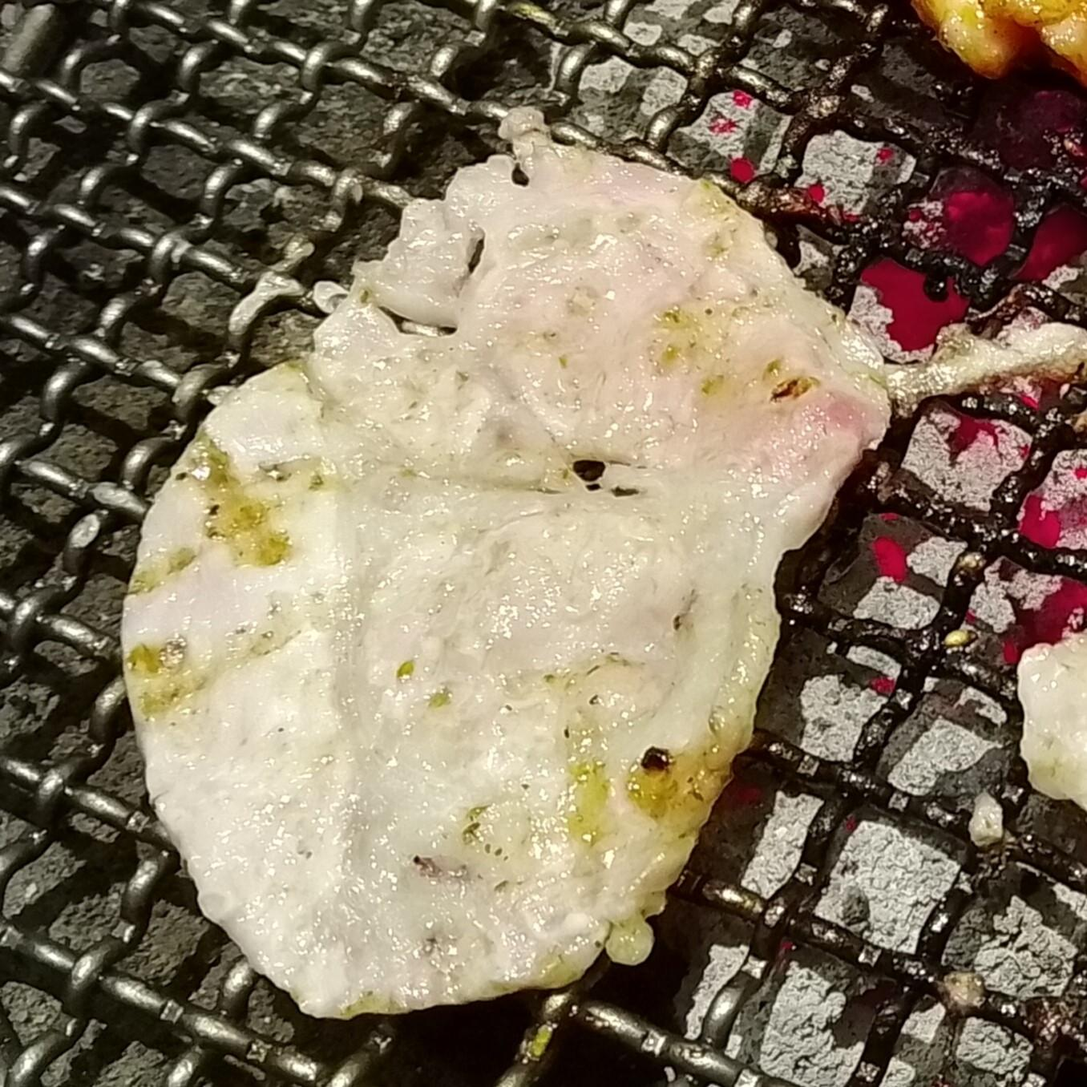Undercooked: (120, 135, 893, 1024)
